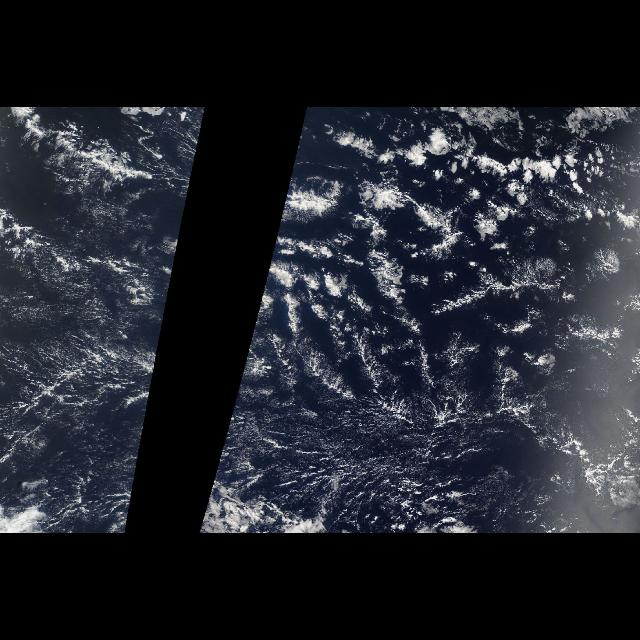Flower: (252, 111, 630, 339)
Gravel: (268, 349, 514, 505)
Sugar: (218, 311, 602, 534), (13, 311, 165, 534)
